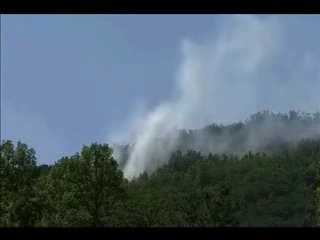smoke: (181, 15, 318, 159), (111, 67, 185, 183)
